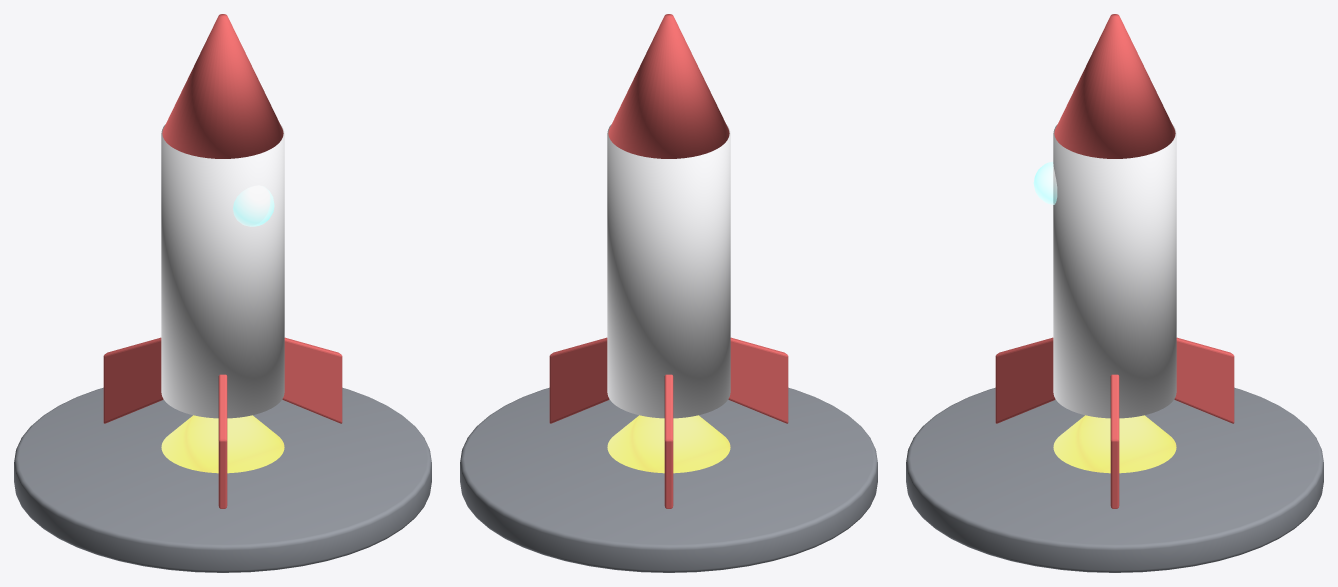
The model's file is rocket_pad.glb.
3 views of the same model, side by side, from view 1: azimuth 30°, elevation 25°; view 2: azimuth 150°, elevation 25°; view 3: azimuth 270°, elevation 25° (orthographic).
Visible parts, largest first — view 1: Cylinder.001, Cylinder, Cone, Cone.001, poly, poly.001, Sphere, poly.002; view 2: Cylinder.001, Cylinder, Cone, Cone.001, poly, poly.002, poly.001; view 3: Cylinder.001, Cylinder, Cone, Cone.001, poly.001, poly.002, poly, Sphere.
Part boxes in pixels (x1,y1,x2,y2): Cylinder.001: [14, 387, 431, 572]; Cylinder: [161, 124, 284, 418]; Cone: [162, 14, 283, 158]; Cone.001: [161, 415, 284, 473]; poly: [282, 337, 342, 423]; poly.001: [103, 337, 163, 423]; Sphere: [233, 185, 274, 226]; poly.002: [218, 374, 227, 508]; Cylinder.001: [460, 387, 877, 572]; Cylinder: [607, 124, 730, 418]; Cone: [608, 14, 729, 158]; Cone.001: [607, 415, 730, 473]; poly: [549, 337, 609, 423]; poly.002: [728, 337, 788, 423]; poly.001: [664, 374, 673, 508]; Cylinder.001: [906, 387, 1323, 572]; Cylinder: [1053, 124, 1176, 418]; Cone: [1054, 14, 1175, 158]; Cone.001: [1053, 415, 1176, 473]; poly.001: [1174, 337, 1234, 423]; poly.002: [995, 337, 1055, 423]; poly: [1110, 374, 1119, 508]; Sphere: [1033, 161, 1057, 204].
Bounding box in the file's own units: 1.12 × 1.39 × 1.12.
